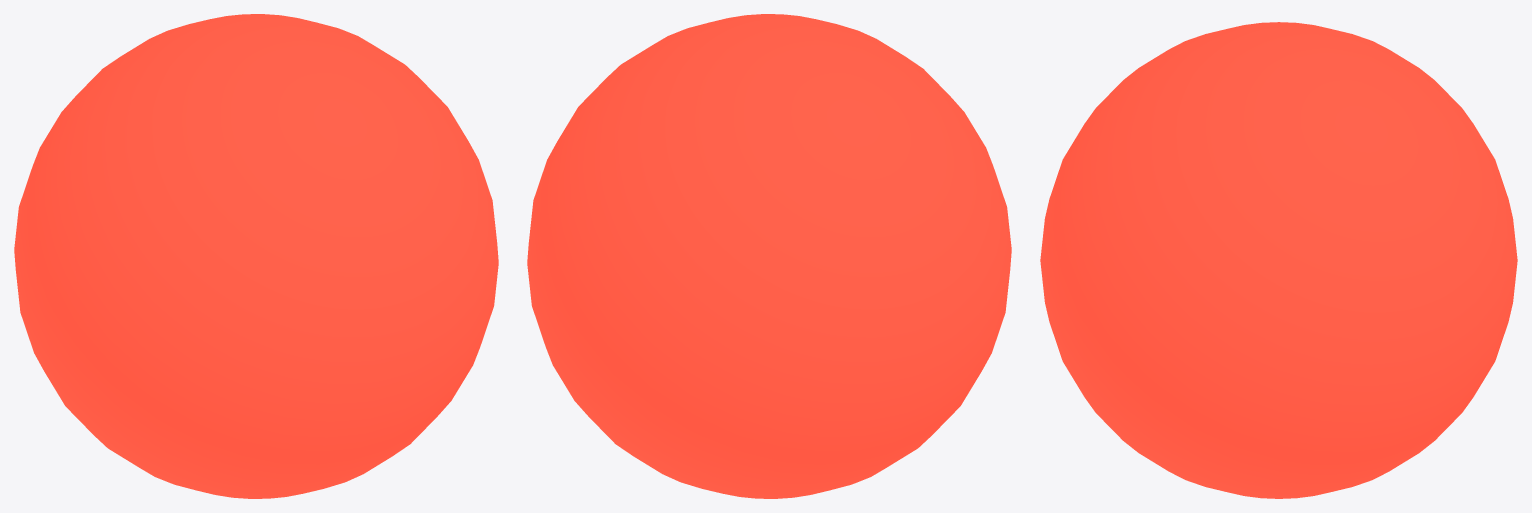
File: combustivel-fossil.glb
The picture shows the model from 3 angles, left to right: view 1: azimuth 30°, elevation 25°; view 2: azimuth 150°, elevation 25°; view 3: azimuth 270°, elevation 25°; orthographic projection.
Parts seen in each view (by area): view 1: Sphere.014; view 2: Sphere.014; view 3: Sphere.014.
Part boxes in pixels (left/top/right/bottom): Sphere.014: left=14, top=14, right=498, bottom=498; Sphere.014: left=527, top=14, right=1011, bottom=498; Sphere.014: left=1040, top=22, right=1517, bottom=498.
Size of the model in its own units: 5.15 by 5.15 by 5.15.
